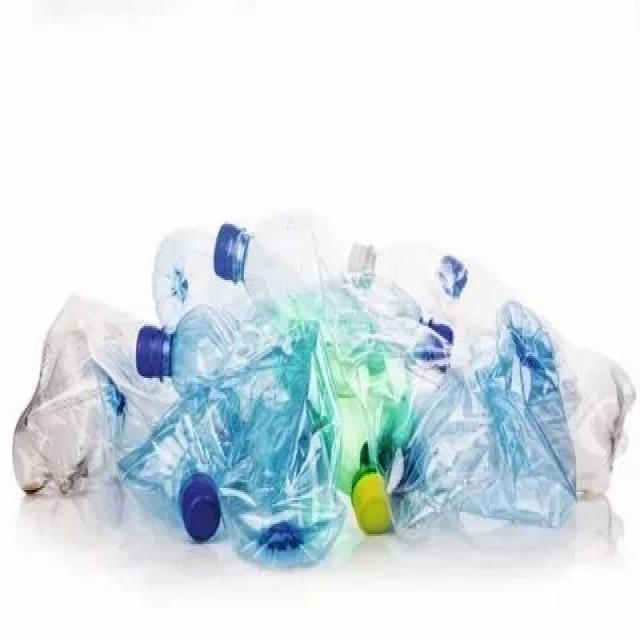blue: (119, 326, 344, 566), (388, 313, 576, 537)
